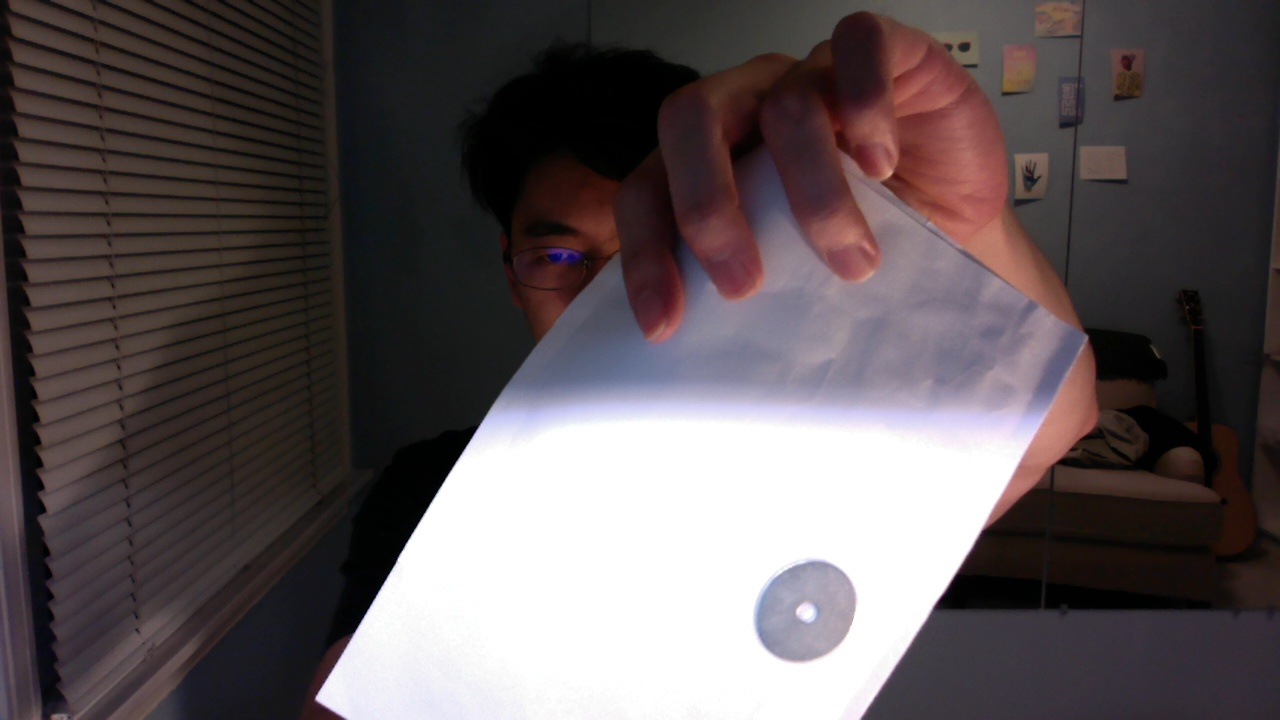NonDetectiveWashers: (757, 559, 858, 663)
